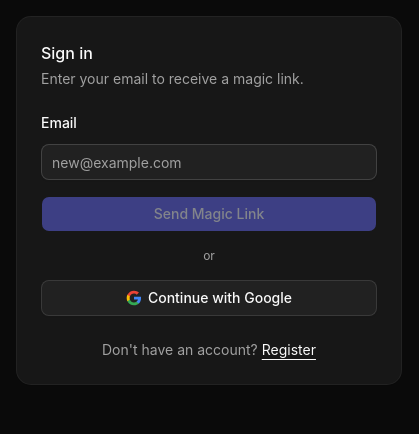
Test: Login Page › Magic Link Submission › shows validation error when email is not valid
Type "new@example" into the field labelled "Email" at (209, 162), box [41,144,377,180]
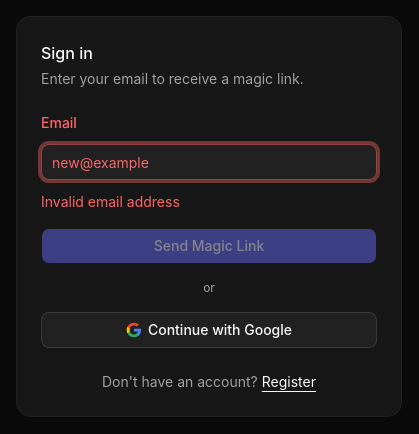
Now the text "Invalid email address" is shown, box [41,193,180,210]
